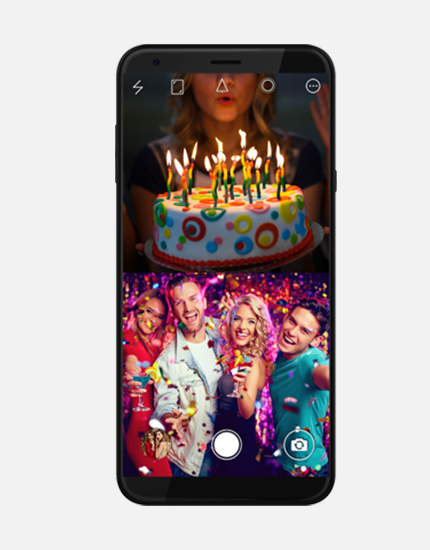mobile: (116, 35, 334, 508)
